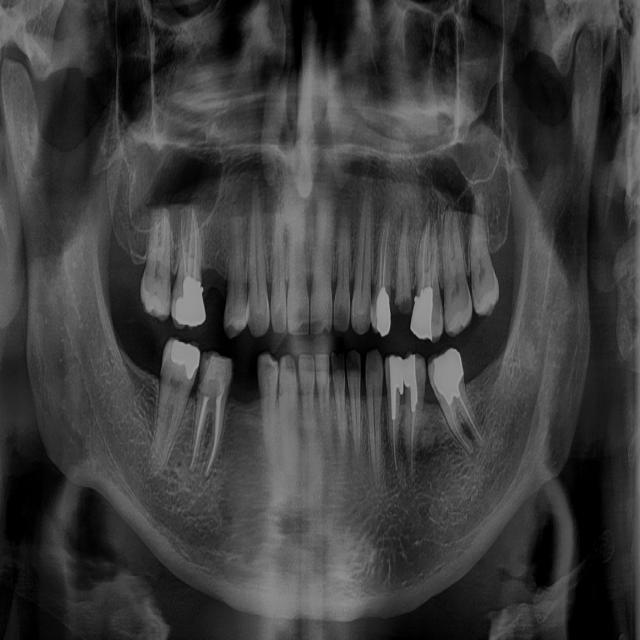Caries: (471, 273, 476, 294)
Filling: (434, 348, 464, 405), (176, 276, 204, 326), (200, 353, 231, 394), (171, 342, 200, 383), (411, 287, 433, 341), (402, 354, 419, 412), (389, 358, 404, 419), (376, 285, 391, 337)
Missing teeth: (197, 266, 231, 322), (231, 359, 260, 406)
Periapical lesion: (398, 198, 413, 235), (458, 435, 479, 457), (184, 457, 199, 474), (202, 460, 214, 480)
Root Canal Treatment: (206, 390, 223, 475), (191, 393, 209, 470), (459, 395, 483, 440), (449, 404, 469, 449), (382, 222, 389, 287), (431, 221, 437, 286), (181, 216, 187, 275), (187, 205, 192, 275), (422, 223, 427, 289), (411, 411, 416, 475), (379, 231, 384, 292), (193, 210, 197, 277), (392, 420, 397, 470), (427, 218, 430, 287)
Root Piece: (394, 209, 411, 311)
